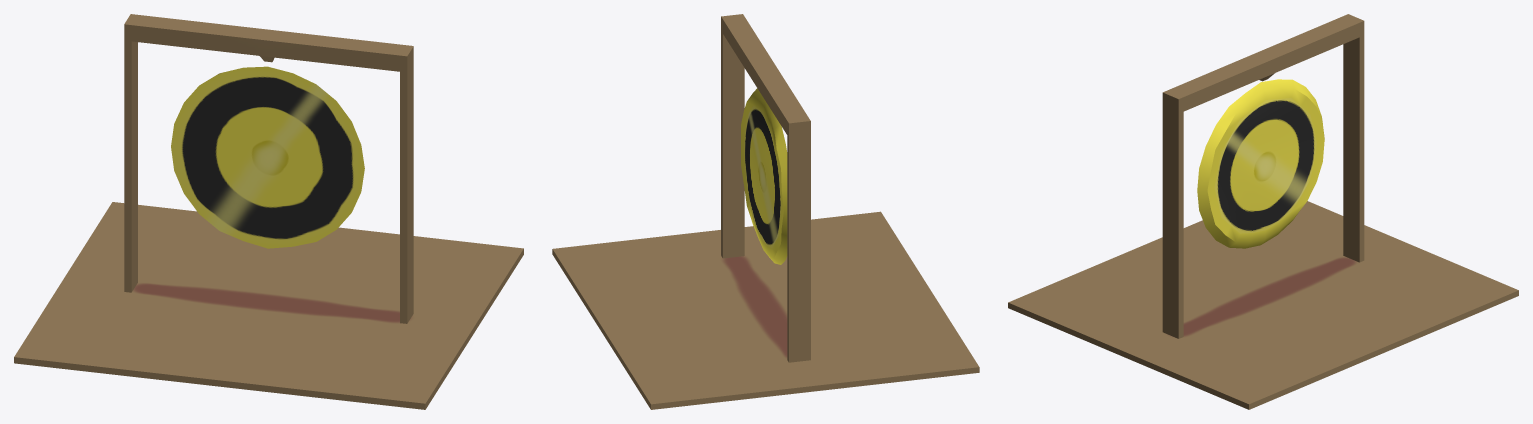
Rendered from M_Blockout_Gong.fbx.
The picture shows the model from 3 angles, left to right: view 1: azimuth 30°, elevation 25°; view 2: azimuth 150°, elevation 25°; view 3: azimuth 270°, elevation 25°; orthographic projection. The views are drawn at different scales.
Visible parts, largest first — view 1: Cube.010; view 2: Cube.010; view 3: Cube.010.
Part boxes in pixels (box(x1,y1,x2,y2)): Cube.010: box(14, 14, 523, 409); Cube.010: box(552, 14, 979, 409); Cube.010: box(1008, 14, 1518, 409).
Size of the model in its own units: 586 by 311 by 586.
